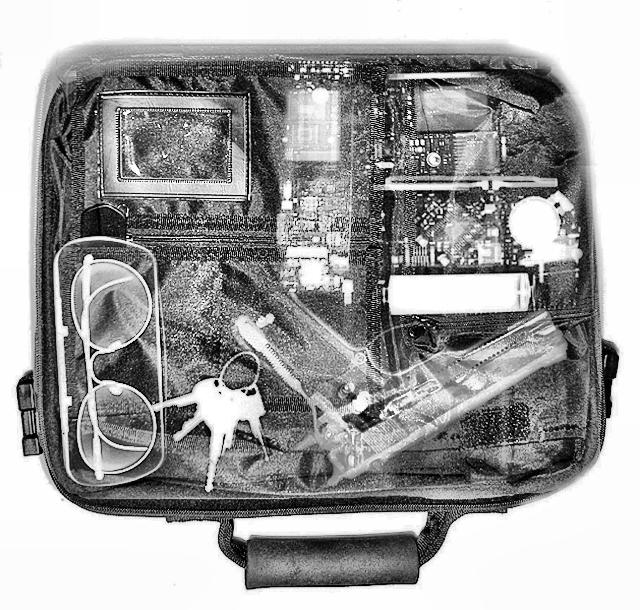Gun: (233, 285, 571, 481)
